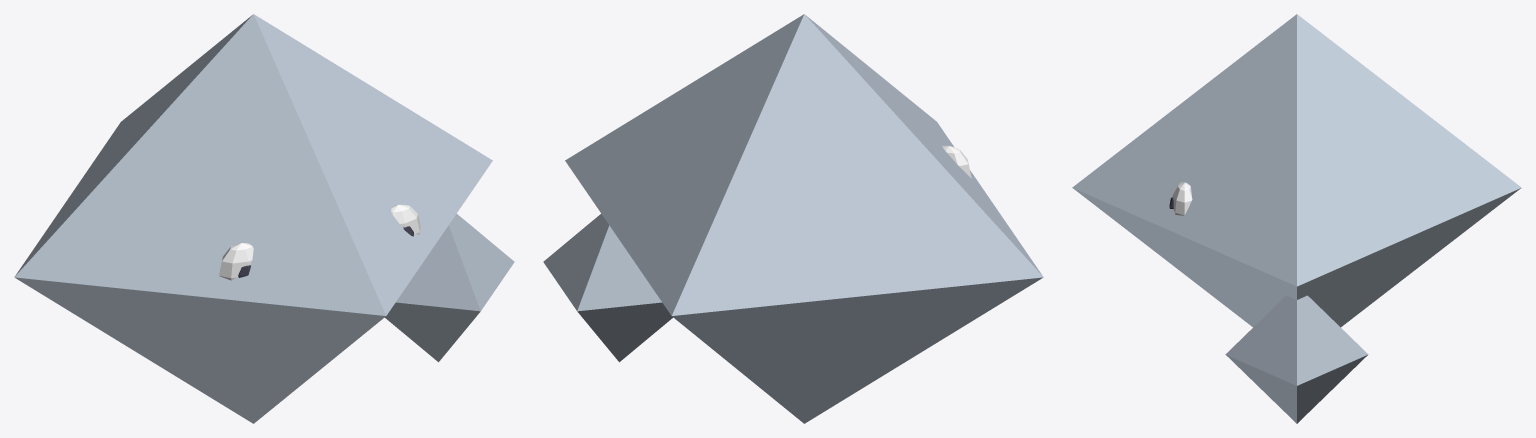
Rendered from hodlberg.glb.
3 views of the same model, side by side, from view 1: azimuth 30°, elevation 25°; view 2: azimuth 150°, elevation 25°; view 3: azimuth 270°, elevation 25° (orthographic). The views are drawn at different scales.
Visible parts, largest first — view 1: hodlberg; view 2: hodlberg; view 3: hodlberg.
Part boxes in pixels (x1,y1,x2,y2): hodlberg: (14, 14, 514, 423); hodlberg: (543, 14, 1043, 423); hodlberg: (1072, 14, 1521, 423).
Bounding box in the file's own units: 2.3 × 1.8 × 2.11.
